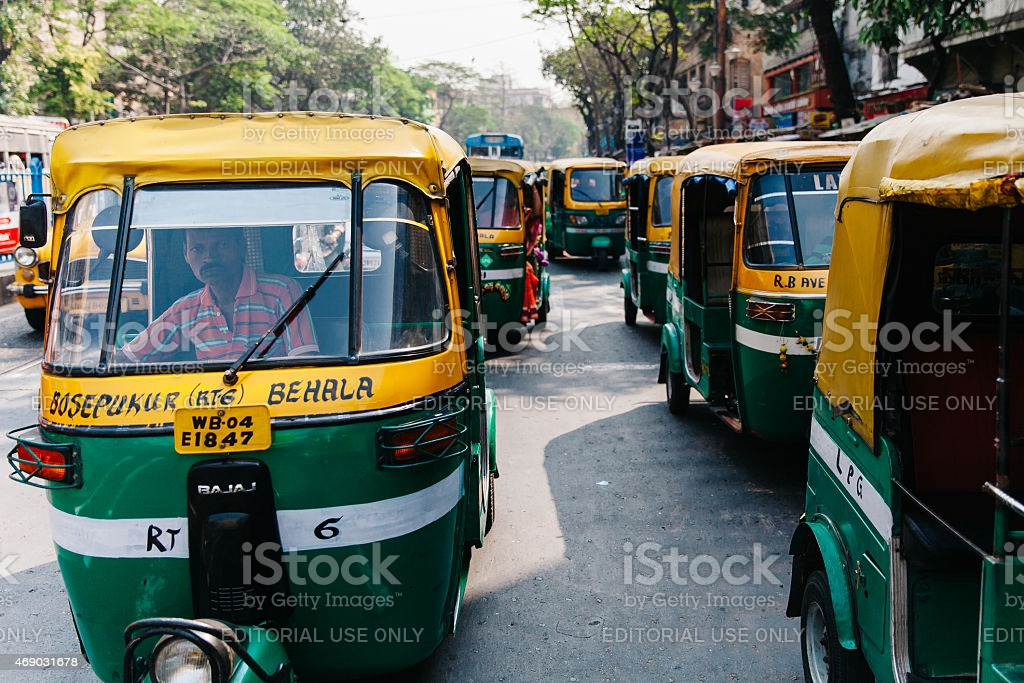rickshaw: (19, 106, 507, 683), (785, 100, 1024, 673), (670, 135, 857, 457), (476, 152, 541, 341), (549, 146, 639, 270), (626, 147, 680, 309)
